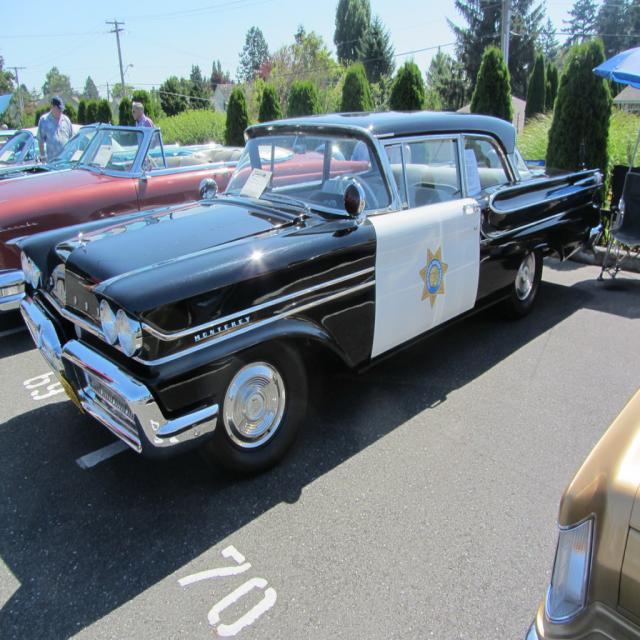car: (524, 381, 639, 633)
